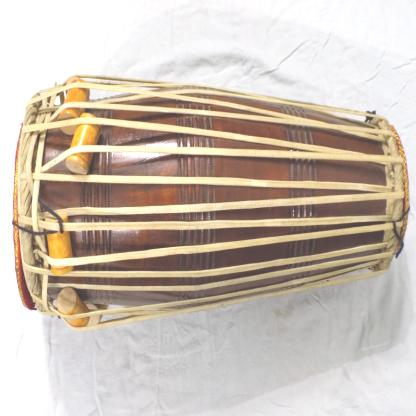Mridangam: (9, 69, 415, 336)
